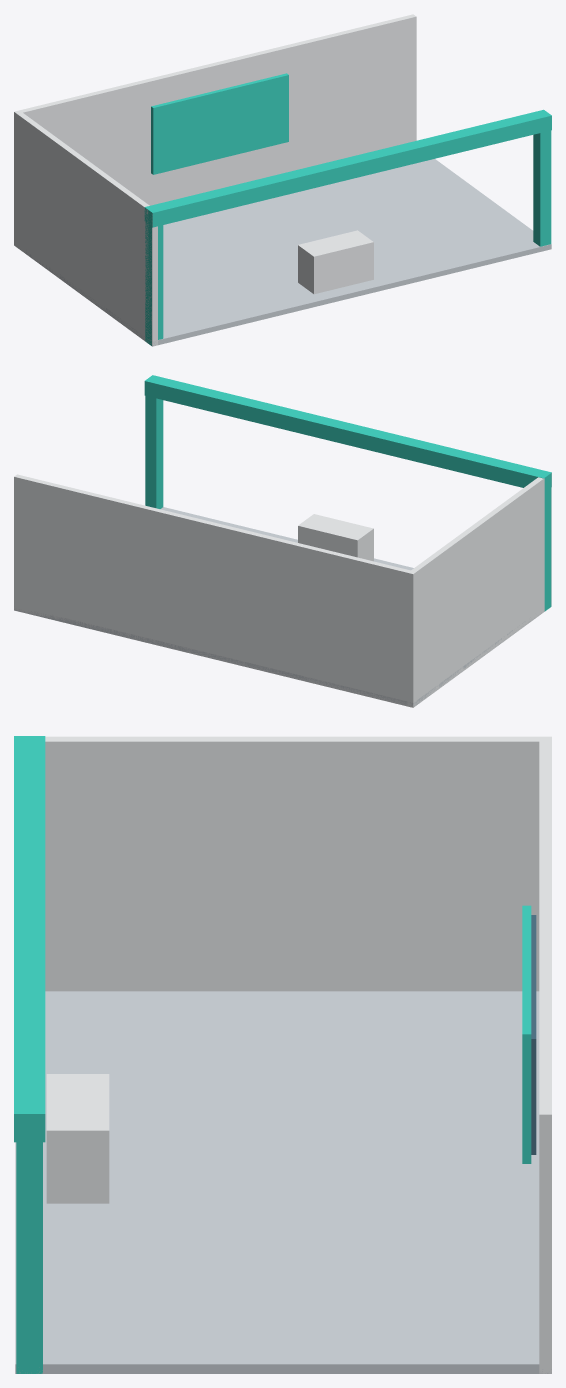
The picture shows the model from 3 angles, top to bottom: view 1: azimuth 30°, elevation 25°; view 2: azimuth 150°, elevation 25°; view 3: azimuth 270°, elevation 25°; orthographic projection. The views are drawn at different scales.
Visible parts, largest first — view 1: Exhibition Booth Concept; view 2: Exhibition Booth Concept; view 3: Exhibition Booth Concept.
Boxes of the visible parts, x1=… form: Exhibition Booth Concept: x1=14, y1=14, x2=551, y2=346; Exhibition Booth Concept: x1=14, y1=375, x2=551, y2=707; Exhibition Booth Concept: x1=14, y1=736, x2=551, y2=1373.
Bounding box in the file's own units: 10 × 3.2 × 6.02.
